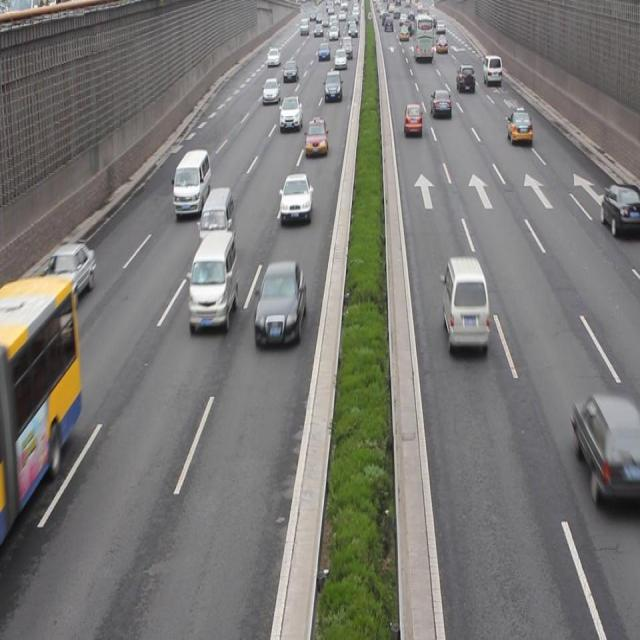car: (571, 390, 640, 508), (254, 260, 305, 349), (40, 243, 96, 309), (598, 182, 640, 232), (280, 174, 312, 225), (506, 106, 531, 144), (304, 118, 326, 153), (403, 104, 422, 133)
truck: (188, 230, 237, 334), (441, 258, 488, 351), (199, 186, 234, 260), (173, 148, 210, 218)
van: (1, 275, 83, 545)
